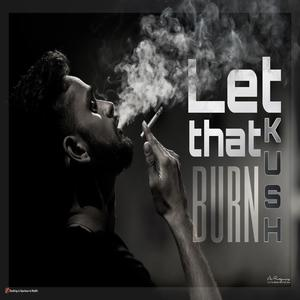cigarette: (140, 104, 163, 138)
